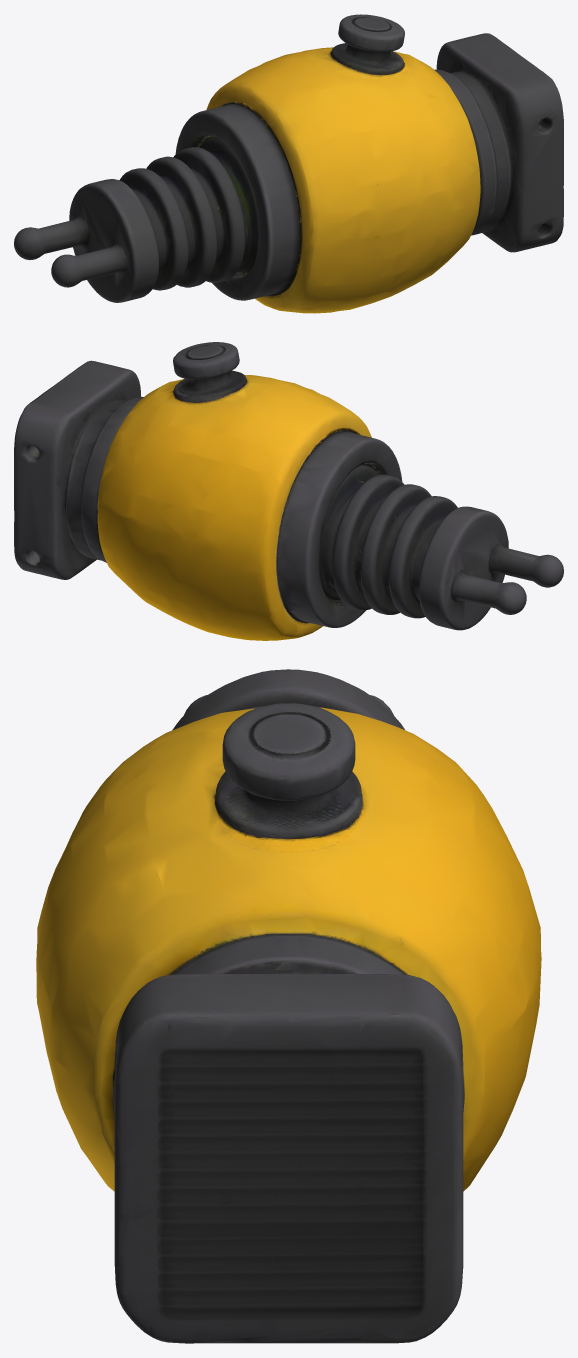
The model's file is Meshy_AI_Yellow_Pneumatic_Actu_0614074810_texture.fbx.
3 renders of one model, top to bottom at view 1: azimuth 30°, elevation 25°; view 2: azimuth 150°, elevation 25°; view 3: azimuth 270°, elevation 25°, orthographic. The views are drawn at different scales.
Visible parts, largest first — view 1: Mesh_0; view 2: Mesh_0; view 3: Mesh_0.
Part boxes in pixels (<box>): Mesh_0: <box>14,14,563,313</box>; Mesh_0: <box>14,342,563,640</box>; Mesh_0: <box>36,669,541,1343</box>.
Bounding box in the file's own units: 191 × 99.58 × 85.42.
1 material, 1 textured.
